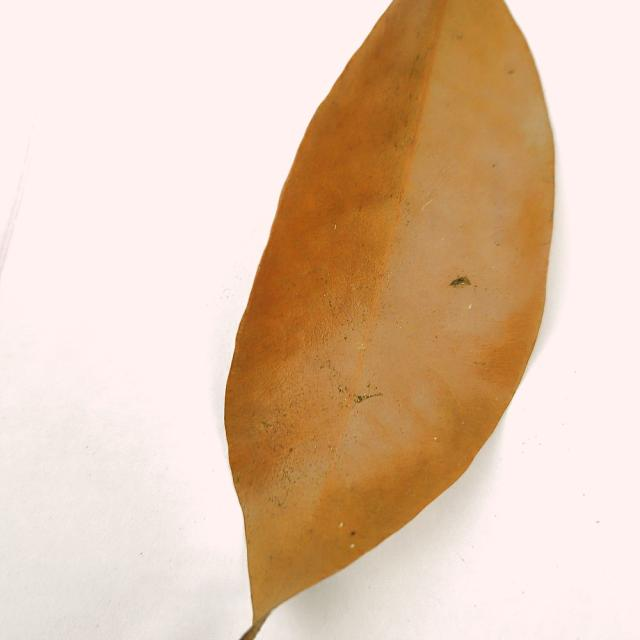Dry_Leaf-Lychee: (223, 0, 558, 639)
